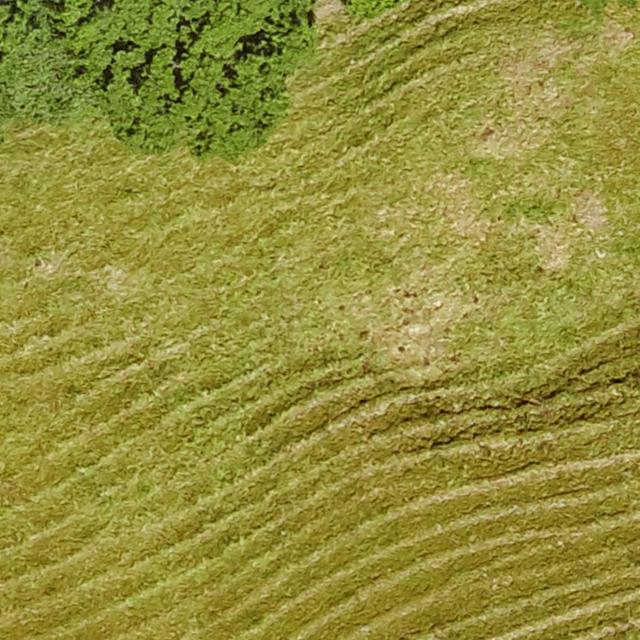tree: (54, 0, 305, 151)
